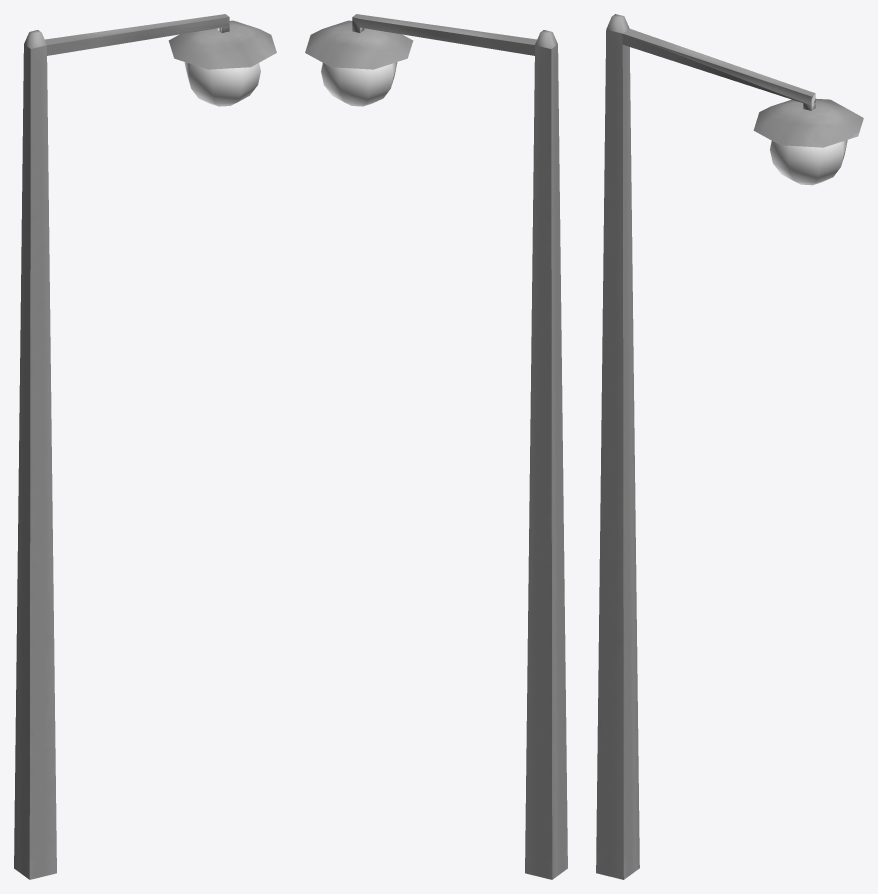
File: lightPoleFlag.obj
3 views of the same model, side by side, from view 1: azimuth 30°, elevation 25°; view 2: azimuth 150°, elevation 25°; view 3: azimuth 330°, elevation 25° (orthographic).
Parts seen in each view (by area): view 1: pasted__lightPoleFlag group; view 2: pasted__lightPoleFlag group; view 3: pasted__lightPoleFlag group.
Part boxes in pixels (x1,y1,x2,y2): pasted__lightPoleFlag group: [14, 14, 276, 879]; pasted__lightPoleFlag group: [305, 14, 567, 879]; pasted__lightPoleFlag group: [596, 14, 863, 879].
Size of the model in its own units: 1.05 by 3.38 by 0.4099.
Materials: 1 (1 with a texture image).
